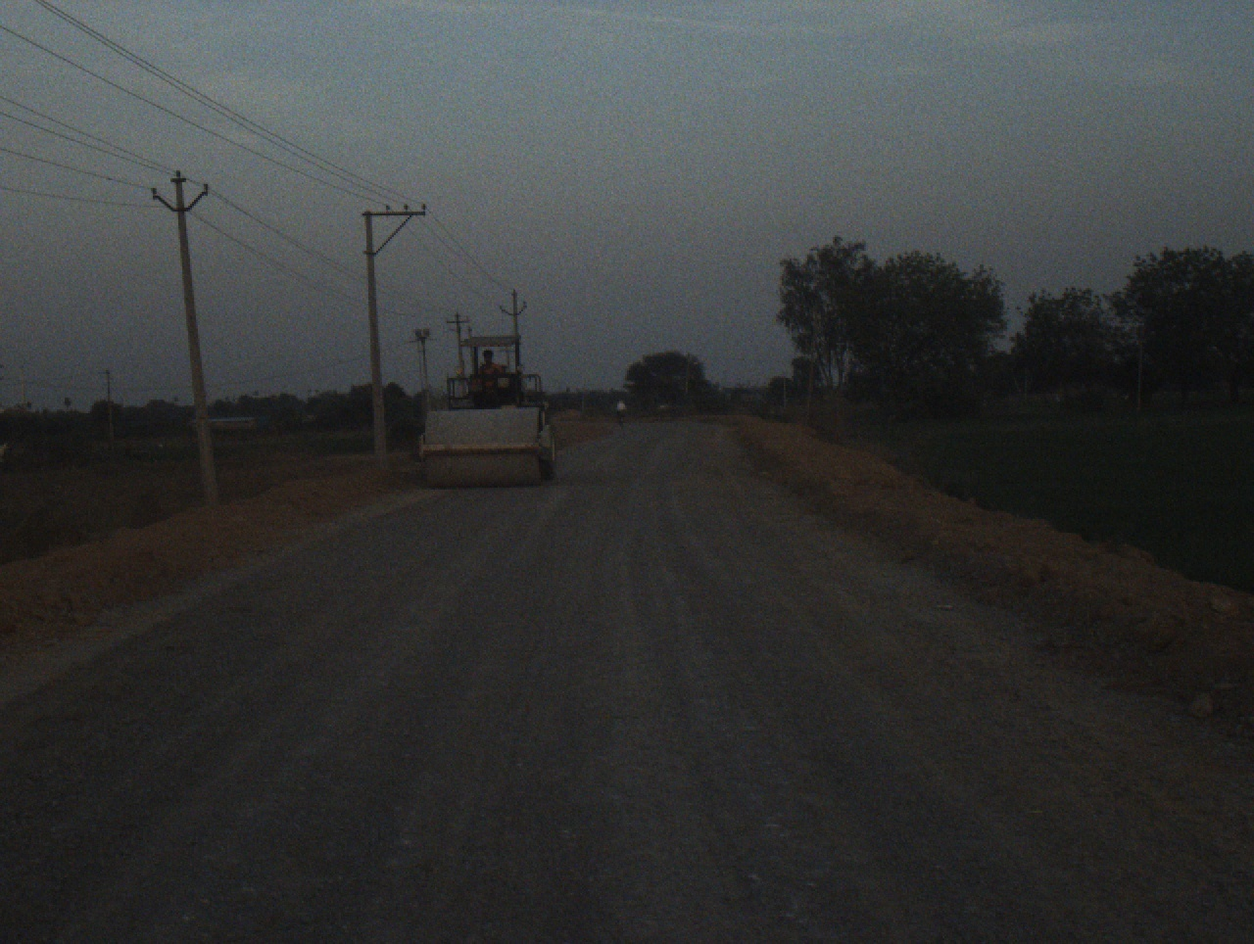vehicle fallback: (411, 329, 559, 490)
